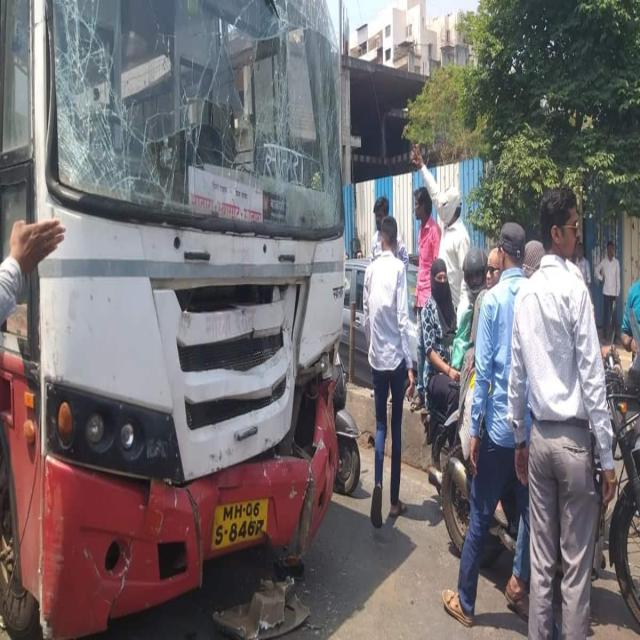accident: (0, 0, 345, 636)
